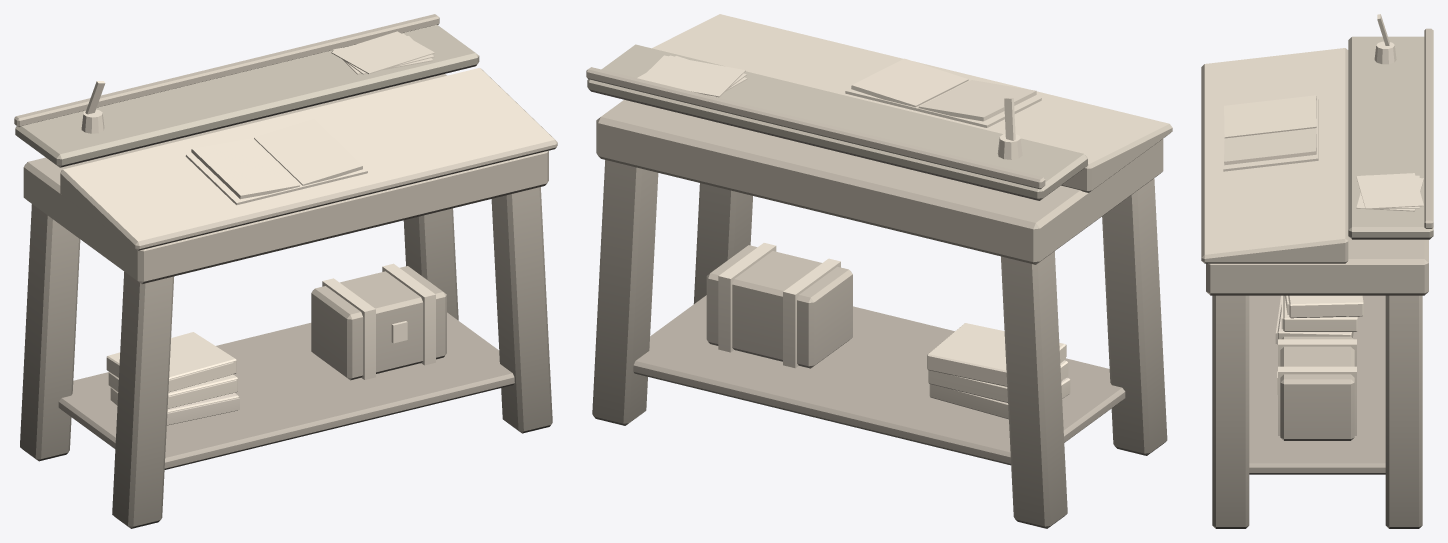
Rendered from SM_VKI_Prop_Desk_Merchant.fbx.
3 views of the same model, side by side, from view 1: azimuth 30°, elevation 25°; view 2: azimuth 150°, elevation 25°; view 3: azimuth 270°, elevation 25° (orthographic). The views are drawn at different scales.
Parts seen in each view (by area): view 1: SM_VKI_Prop_Desk_Merchant.001; view 2: SM_VKI_Prop_Desk_Merchant.001; view 3: SM_VKI_Prop_Desk_Merchant.001.
Part boxes in pixels (x1,y1,x2,y2): SM_VKI_Prop_Desk_Merchant.001: (14, 14, 557, 528); SM_VKI_Prop_Desk_Merchant.001: (586, 14, 1172, 528); SM_VKI_Prop_Desk_Merchant.001: (1201, 14, 1433, 528).
Bounding box in the file's own units: 1.49 × 1.24 × 0.75.
